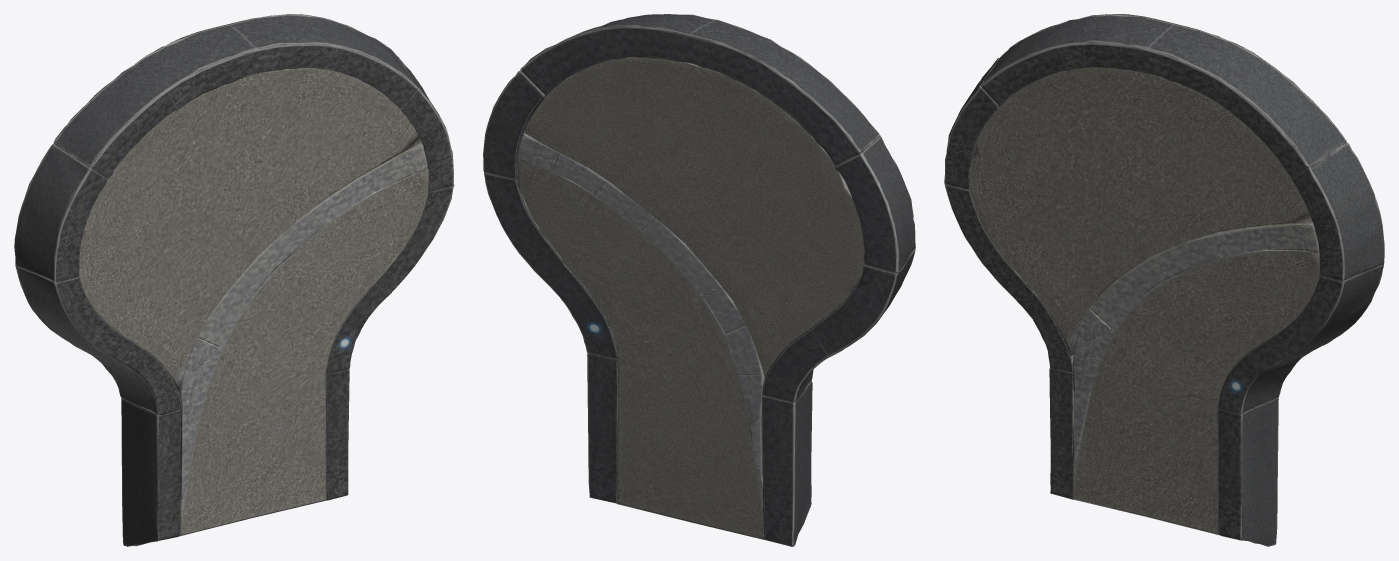
The model's file is midori_path_resting_pocket.glb.
The picture shows the model from 3 angles, left to right: view 1: azimuth 30°, elevation 25°; view 2: azimuth 150°, elevation 25°; view 3: azimuth 330°, elevation 25°; orthographic projection.
Size of the model in its own units: 0.8965 by 1 by 0.1113.
1 material, 1 textured.
